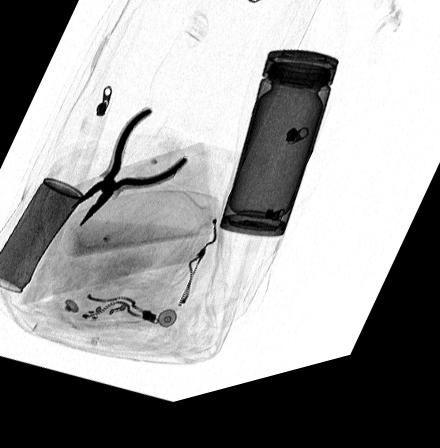Pliers: (69, 114, 191, 232)
